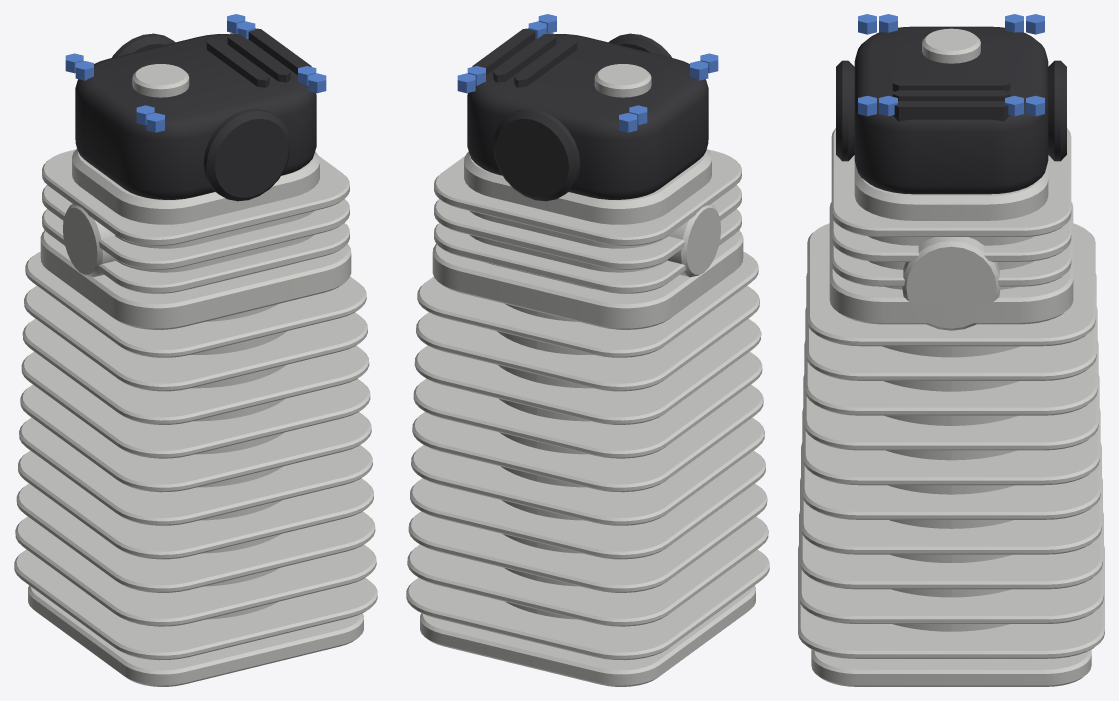
Rendered from race_high_comp_1.glb.
3 views of the same model, side by side, from view 1: azimuth 30°, elevation 25°; view 2: azimuth 150°, elevation 25°; view 3: azimuth 270°, elevation 25° (orthographic). The views are drawn at different scales.
Parts seen in each view (by area): view 1: race_high_comp_1; view 2: race_high_comp_1; view 3: race_high_comp_1.
Boxes of the visible parts, left/top/right/bottom form: race_high_comp_1: left=14, top=14, right=377, bottom=686; race_high_comp_1: left=406, top=14, right=769, bottom=686; race_high_comp_1: left=798, top=14, right=1104, bottom=686.
Bounding box in the file's own units: 0.146 × 0.3 × 0.146.
